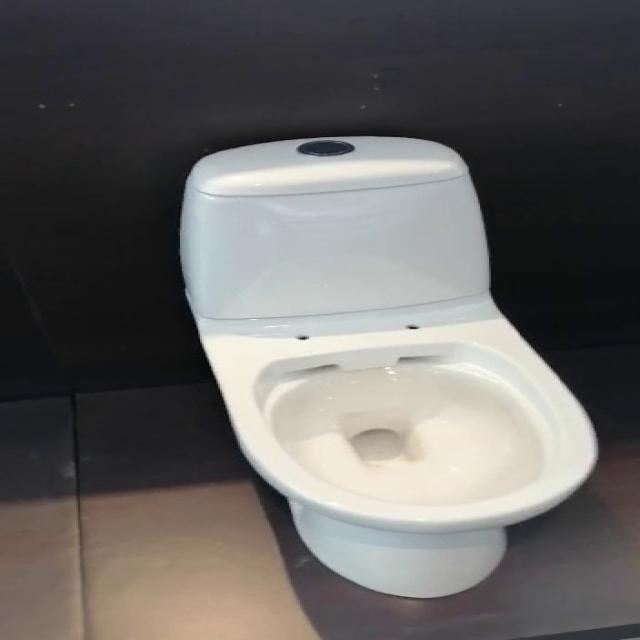toilet: (178, 134, 598, 598)
